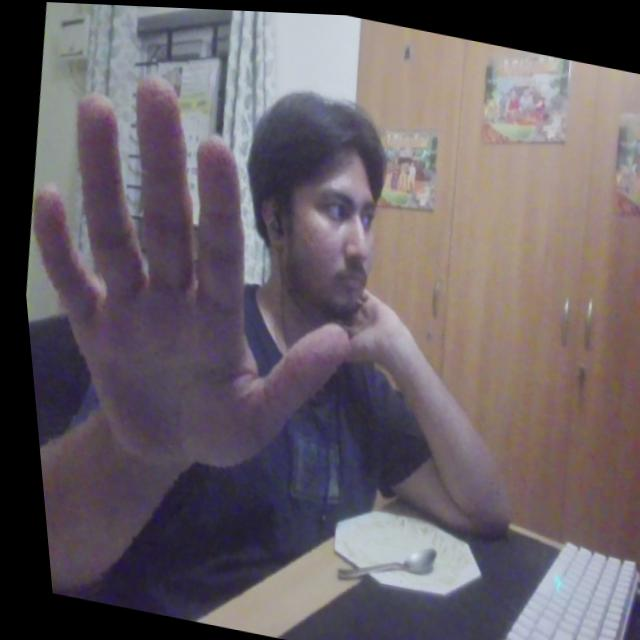hello: (4, 52, 394, 506)
